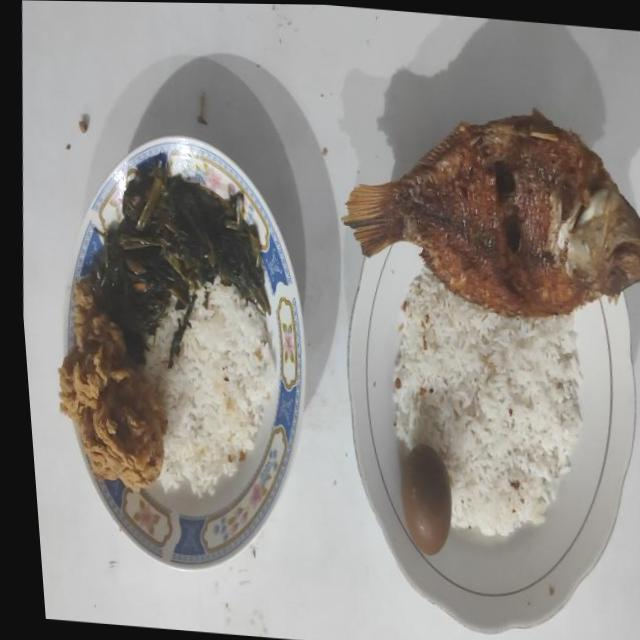ikan_mujair: (342, 109, 640, 317)
nasi_putih: (392, 266, 582, 536), (144, 284, 274, 496)
tumis_kangkung: (89, 152, 270, 368)
